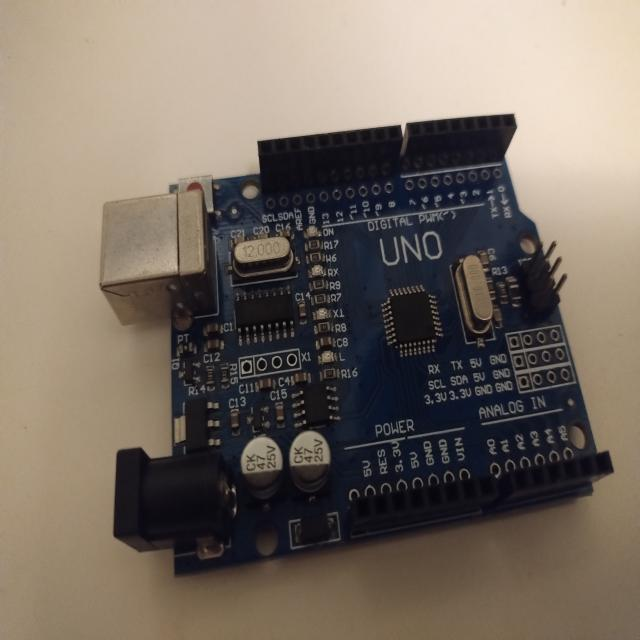arduino: (106, 103, 615, 586)
